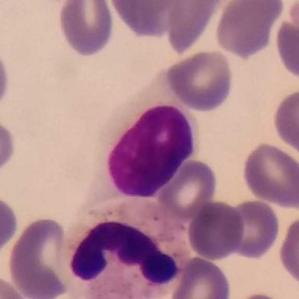Lymphocyte: (94, 77, 202, 200)
Neutrophil: (62, 199, 187, 299)
RBC: (6, 214, 76, 299), (165, 48, 235, 113), (212, 0, 286, 60), (239, 140, 299, 208), (155, 157, 219, 219), (161, 0, 229, 58), (185, 199, 246, 261), (223, 198, 282, 260), (56, 0, 116, 59), (108, 0, 192, 40), (168, 254, 232, 299), (270, 86, 299, 157), (273, 9, 299, 84), (276, 213, 299, 289), (0, 192, 20, 260), (0, 116, 18, 180), (0, 272, 33, 299), (0, 42, 11, 115)
